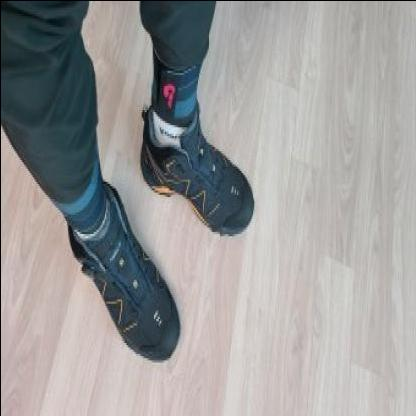safety-shoe: (66, 214, 190, 384), (130, 114, 266, 230)
